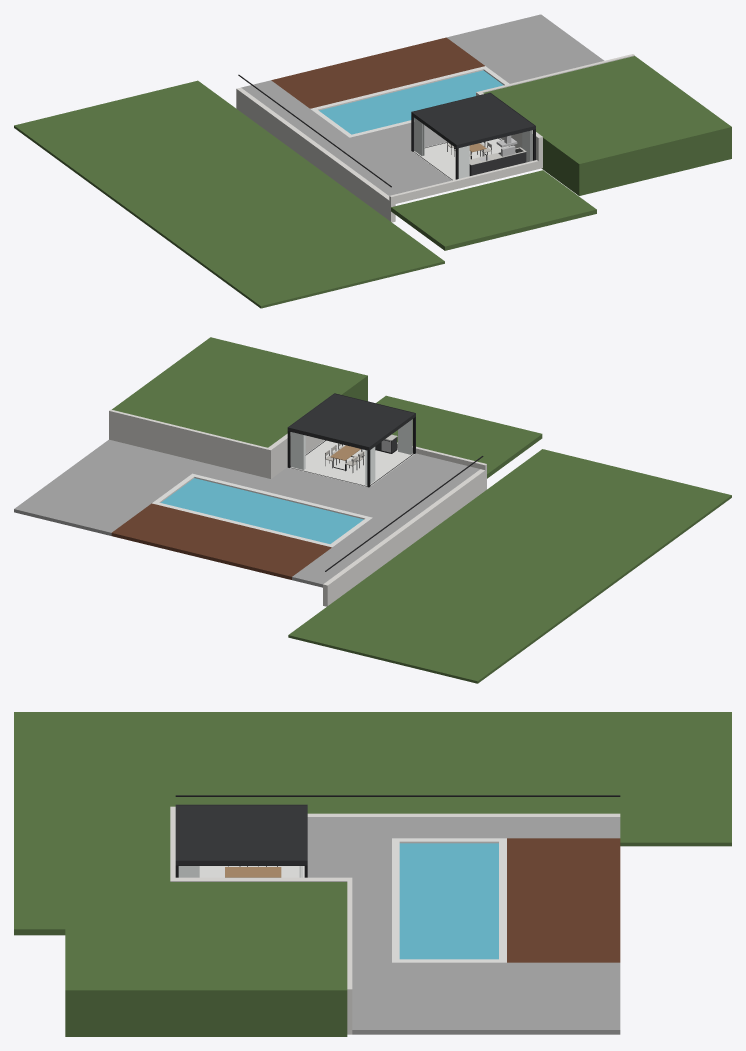
Rendered from Saguramo_Gazebo_summer.fbx.
3 views of the same model, one above another, from view 1: azimuth 30°, elevation 25°; view 2: azimuth 150°, elevation 25°; view 3: azimuth 270°, elevation 25° (orthographic). The views are drawn at different scales.
Parts seen in each view (by area): view 1: Lawn west (lower), Raised lawn east, Lawn behind, Timber deck, Paving east of pool (extent not measured), Granite paving | gazebo terrace, Pool water, West wall, Roof deck, Granite paving | west of pool, Back wall, Gazebo floor | porcelain (+3 smaller); view 2: Lawn west (lower), Raised lawn east, Paving east of pool (extent not measured), Timber deck, Granite paving | gazebo terrace, Pool water, Lawn behind, Retaining wall along pool strip, West wall, Roof deck, Granite paving | west of pool, Gazebo floor | porcelain (+4 smaller); view 3: Lawn west (lower), Raised lawn east, Paving east of pool (extent not measured), Timber deck, Lawn behind, Pool water, Roof deck, Granite paving | gazebo terrace, Granite paving | west of pool, Granite paving | strip along pool, West wall, Pool coping north (+8 smaller).
Boxes of the visible parts, left/top/right/bottom form: Lawn west (lower): left=14, top=80, right=444, bottom=308; Raised lawn east: left=483, top=56, right=731, bottom=195; Lawn behind: left=391, top=170, right=596, bottom=250; Timber deck: left=271, top=37, right=484, bottom=108; Paving east of pool (extent not measured): left=446, top=14, right=604, bottom=83; Granite paving | gazebo terrace: left=320, top=122, right=510, bottom=195; Pool water: left=319, top=70, right=503, bottom=134; West wall: left=236, top=87, right=395, bottom=222; Roof deck: left=412, top=93, right=535, bottom=147; Granite paving | west of pool: left=241, top=80, right=349, bottom=144; Back wall: left=389, top=160, right=542, bottom=204; Gazebo floor | porcelain: left=412, top=138, right=509, bottom=180; Lawn west (lower): left=288, top=449, right=731, bottom=683; Raised lawn east: left=112, top=337, right=367, bottom=447; Paving east of pool (extent not measured): left=14, top=450, right=191, bottom=535; Timber deck: left=111, top=503, right=331, bottom=579; Granite paving | gazebo terrace: left=257, top=440, right=480, bottom=524; Pool water: left=161, top=478, right=363, bottom=543; Lawn behind: left=376, top=395, right=542, bottom=478; Retaining wall along pool strip: left=109, top=409, right=267, bottom=477; West wall: left=323, top=469, right=486, bottom=606; Roof deck: left=287, top=394, right=415, bottom=449; Granite paving | west of pool: left=292, top=517, right=403, bottom=587; Gazebo floor | porcelain: left=288, top=440, right=414, bottom=487; Lawn west (lower): left=14, top=712, right=731, bottom=846; Raised lawn east: left=65, top=882, right=347, bottom=1036; Paving east of pool (extent not measured): left=392, top=962, right=620, bottom=1034; Timber deck: left=507, top=838, right=620, bottom=962; Lawn behind: left=14, top=821, right=170, bottom=935; Pool water: left=399, top=843, right=498, bottom=959; Roof deck: left=176, top=805, right=306, bottom=865; Granite paving | gazebo terrace: left=307, top=817, right=391, bottom=918; Granite paving | west of pool: left=392, top=817, right=620, bottom=838; Granite paving | strip along pool: left=352, top=918, right=391, bottom=1034; West wall: left=307, top=813, right=620, bottom=816; Pool coping north: left=392, top=838, right=399, bottom=962.
Size of what is drawn, in the model's own units: 3200 by 400 by 2800.
